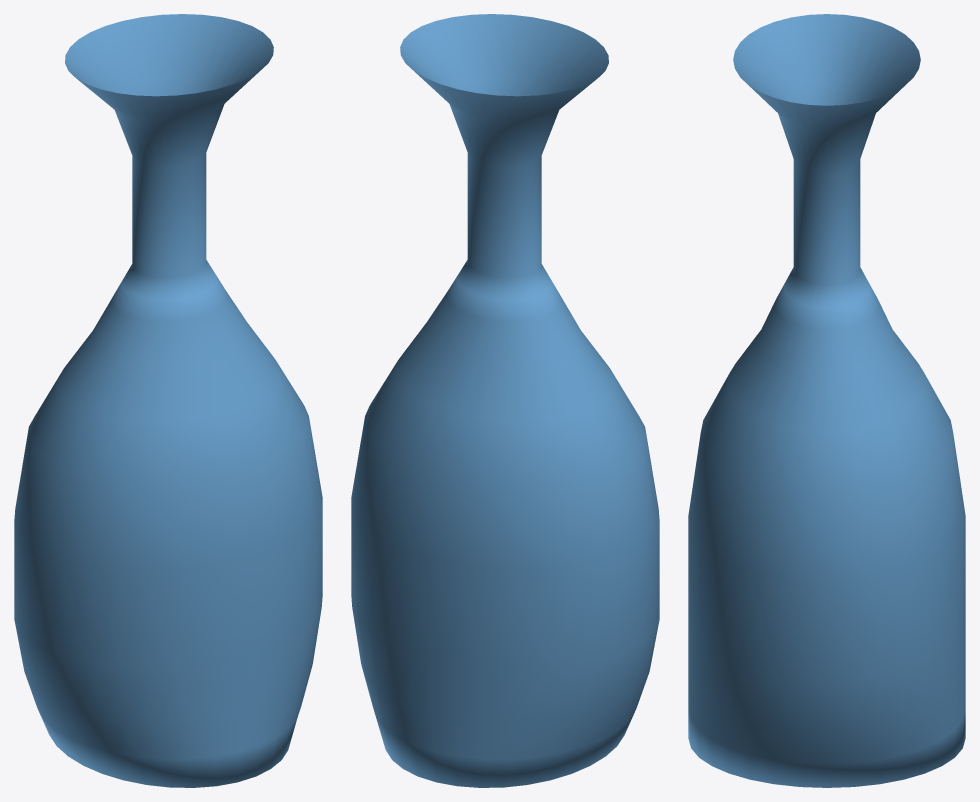
Rendered from Vase_1.fbx.
3 views of the same model, side by side, from view 1: azimuth 30°, elevation 25°; view 2: azimuth 150°, elevation 25°; view 3: azimuth 270°, elevation 25° (orthographic).
Visible parts, largest first — view 1: Cylinder; view 2: Cylinder; view 3: Cylinder.
Boxes of the visible parts, bbox=[...] form: Cylinder: bbox=[14, 14, 322, 787]; Cylinder: bbox=[351, 14, 659, 787]; Cylinder: bbox=[688, 14, 965, 787].
Bounding box in the file's own units: 30.38 × 71.02 × 26.25.
1 material, 1 textured.
